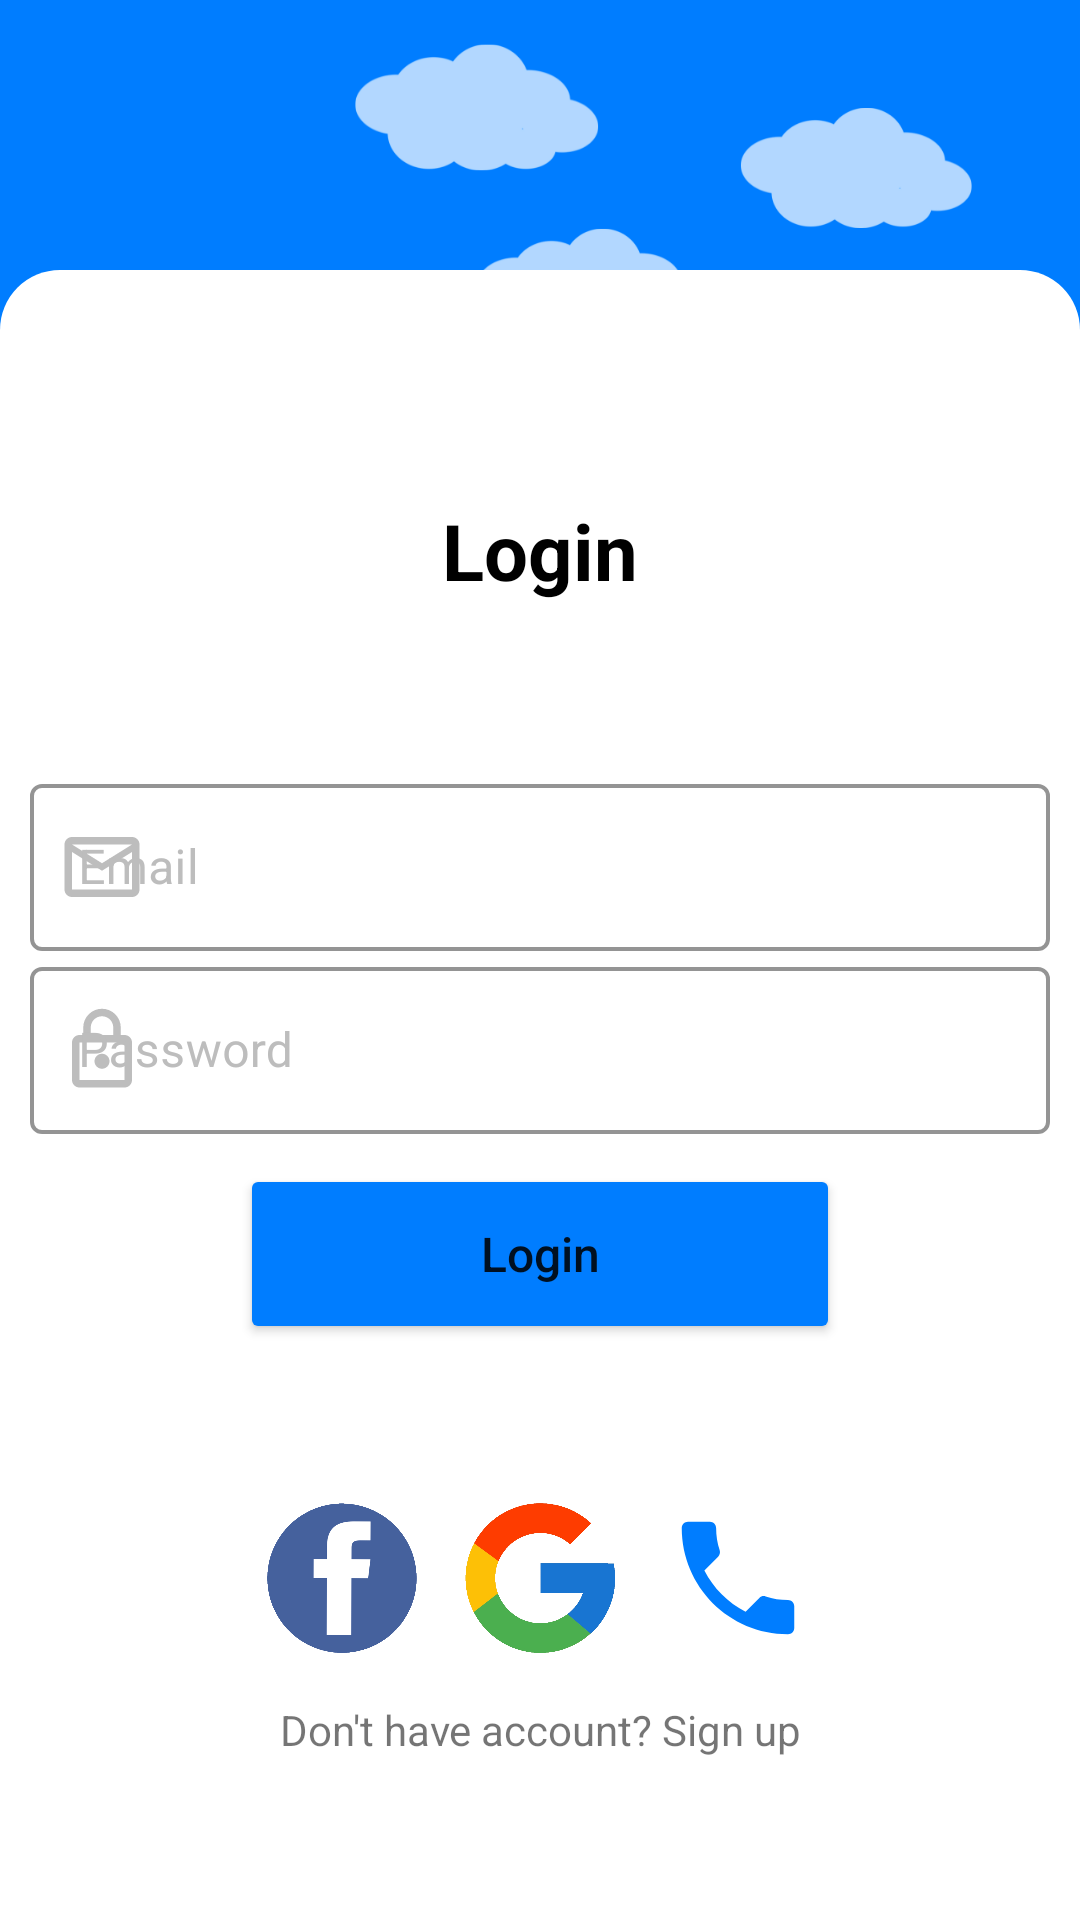

Icon click points for this 1080px×1920px phone screenshot, format (x,y):
phone: (738,1578)
